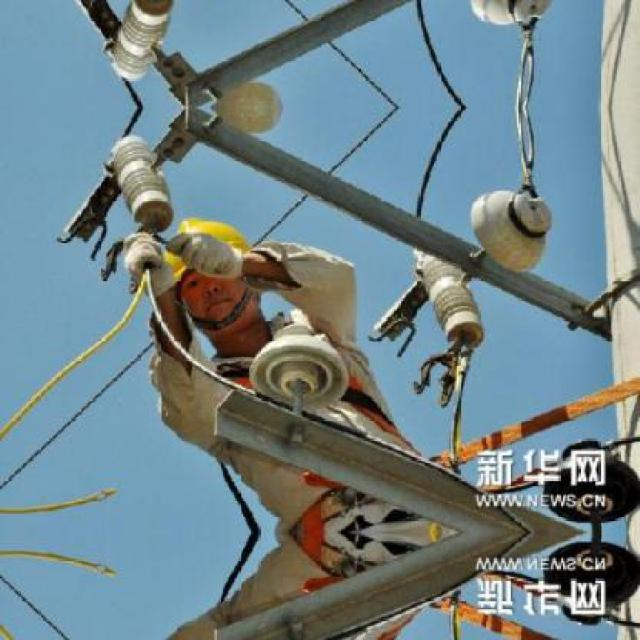helmet: (153, 213, 262, 322)
